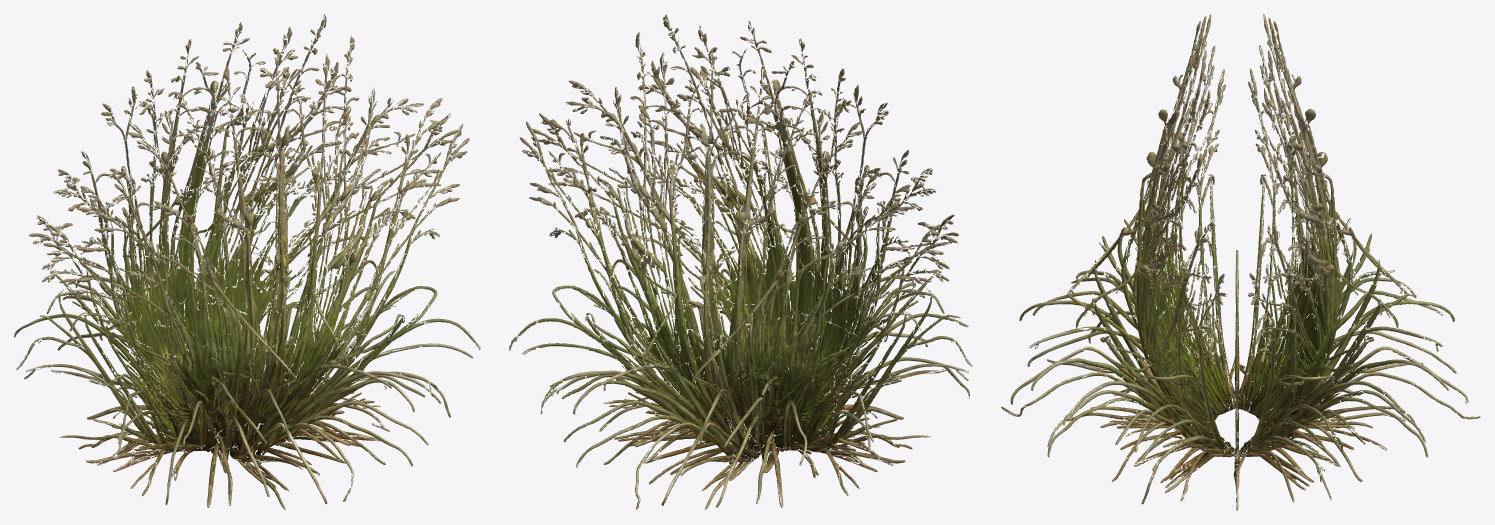
The model's file is sakhbar.glb.
The picture shows the model from 3 angles, left to right: view 1: azimuth 30°, elevation 25°; view 2: azimuth 150°, elevation 25°; view 3: azimuth 270°, elevation 25°; orthographic projection.
Parts seen in each view (by area): view 1: tripo_node_c0e4d916-8e9d-4ff8-b472-5b9d0628fca2; view 2: tripo_node_c0e4d916-8e9d-4ff8-b472-5b9d0628fca2; view 3: tripo_node_c0e4d916-8e9d-4ff8-b472-5b9d0628fca2.
Part boxes in pixels (x1,y1,x2,y2): tripo_node_c0e4d916-8e9d-4ff8-b472-5b9d0628fca2: (14,14,480,509); tripo_node_c0e4d916-8e9d-4ff8-b472-5b9d0628fca2: (509,14,972,509); tripo_node_c0e4d916-8e9d-4ff8-b472-5b9d0628fca2: (1001,14,1480,510).
Size of the model in its own units: 0.9771 by 0.8733 by 0.9241.
1 material, 1 textured.
